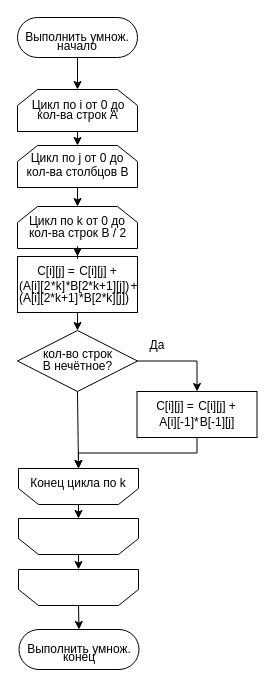
The diagram is 275 pixels wide and 690 high, and some of its shapes have lost their labels. Each missing label, with the centre of its shape:
"Конец цикла по i" goes at pixel 78 587.
"Конец цикла по j" goes at pixel 78 536.
